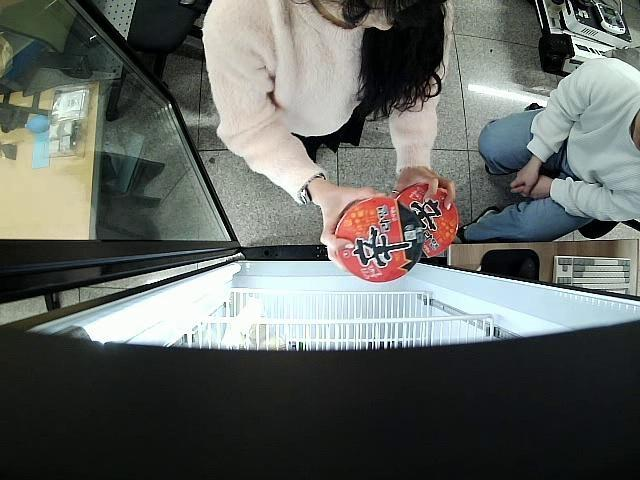01_ShinRamen_L: (337, 196, 422, 280), (396, 184, 458, 257)
